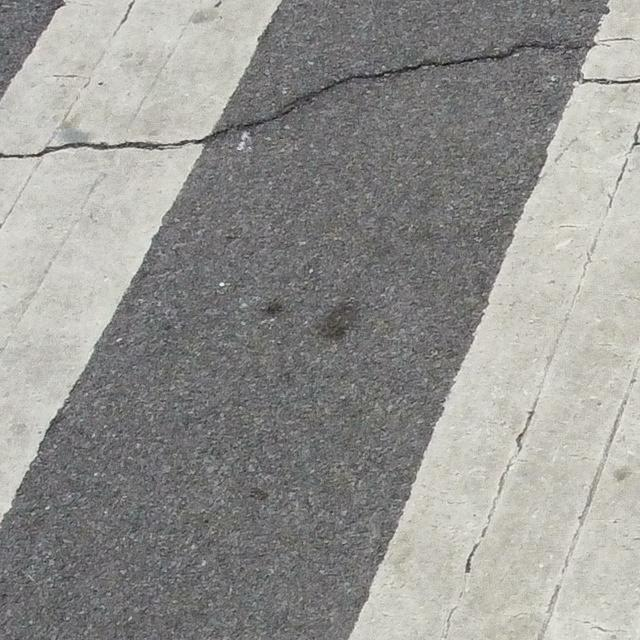TransverseCrack: (1, 36, 608, 160), (576, 67, 640, 85)
